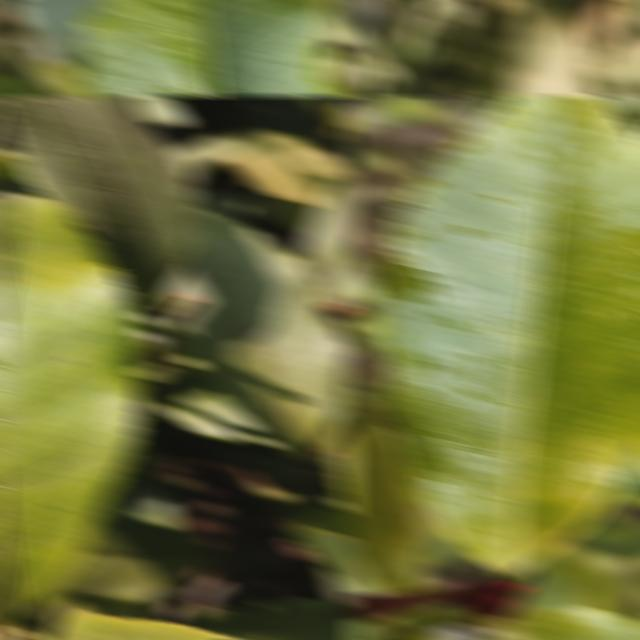Leaf: (375, 95, 640, 574), (0, 191, 145, 625), (163, 210, 351, 464), (0, 95, 201, 305), (72, 0, 343, 97), (346, 385, 430, 595), (43, 509, 215, 600), (222, 130, 351, 208), (296, 162, 358, 310), (504, 2, 595, 97), (183, 597, 358, 640), (43, 612, 252, 640), (288, 509, 358, 587), (20, 0, 105, 63), (483, 606, 640, 640), (168, 134, 255, 183), (588, 30, 640, 88), (330, 95, 358, 136)
